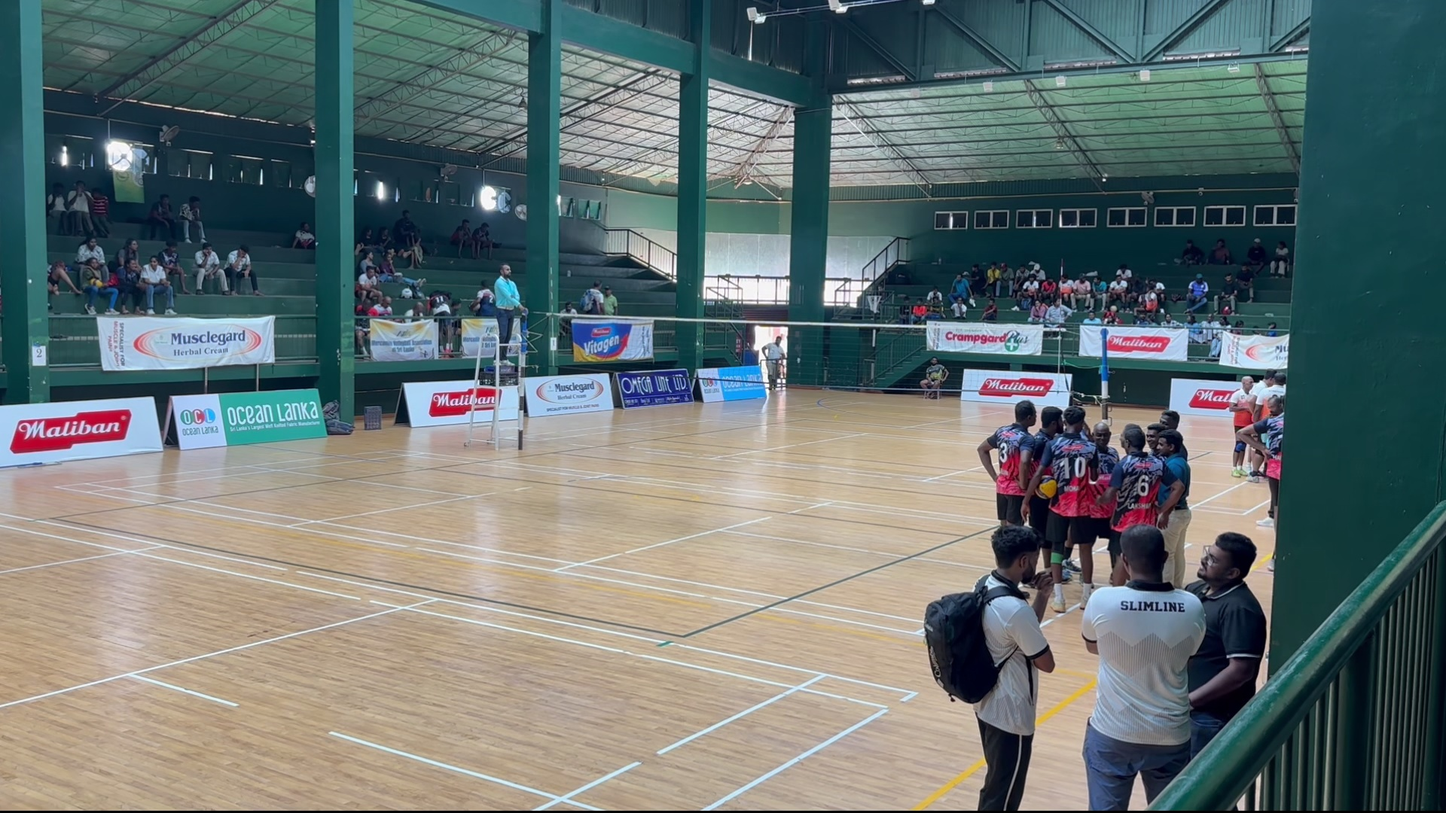Ball: (487, 261, 528, 362)
Payer_B: (1067, 417, 1125, 592), (1053, 408, 1105, 586), (1034, 410, 1071, 581), (988, 404, 1030, 538), (1028, 409, 1063, 560), (998, 406, 1036, 539)
